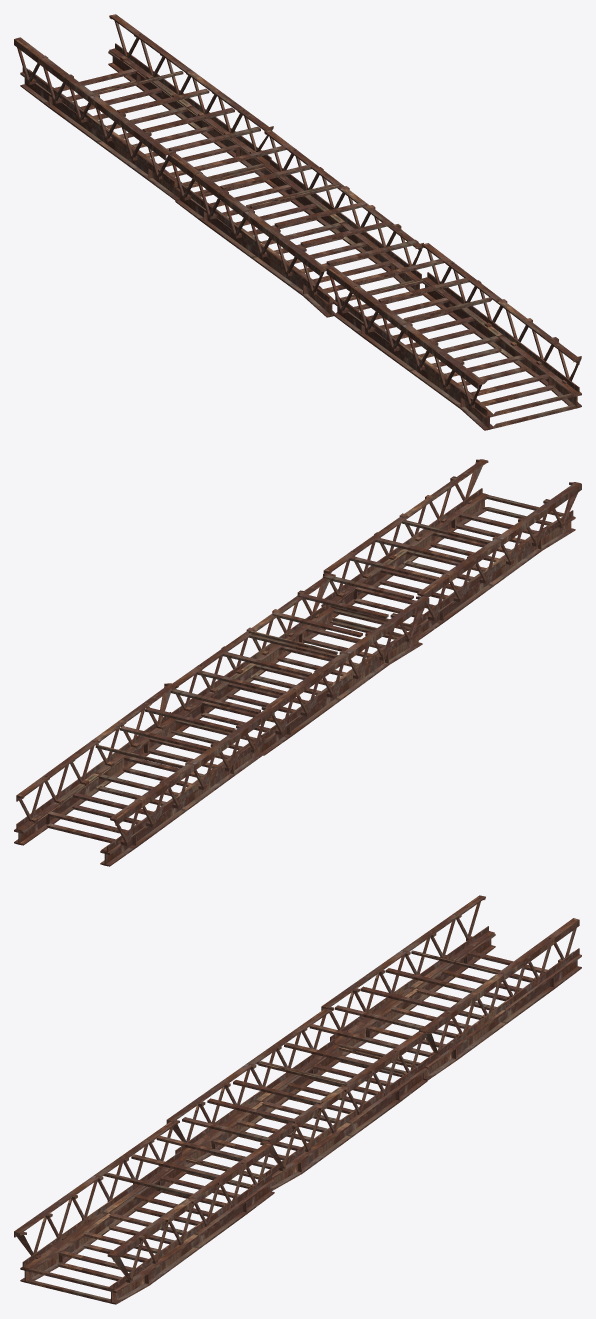
File: SM_TheSamePlace_01_Metal_00.fbx
3 renders of one model, top to bottom at view 1: azimuth 30°, elevation 25°; view 2: azimuth 150°, elevation 25°; view 3: azimuth 330°, elevation 25°, orthographic.
Parts seen in each view (by area): view 1: SM_TheSamePlace_01_Metal_00; view 2: SM_TheSamePlace_01_Metal_00; view 3: SM_TheSamePlace_01_Metal_00.
Boxes of the visible parts, box(x1,y1,x2,y2) form: SM_TheSamePlace_01_Metal_00: box(14, 14, 581, 430); SM_TheSamePlace_01_Metal_00: box(14, 459, 581, 866); SM_TheSamePlace_01_Metal_00: box(14, 895, 581, 1304).
Size of the model in its own units: 756 by 333 by 5511.
